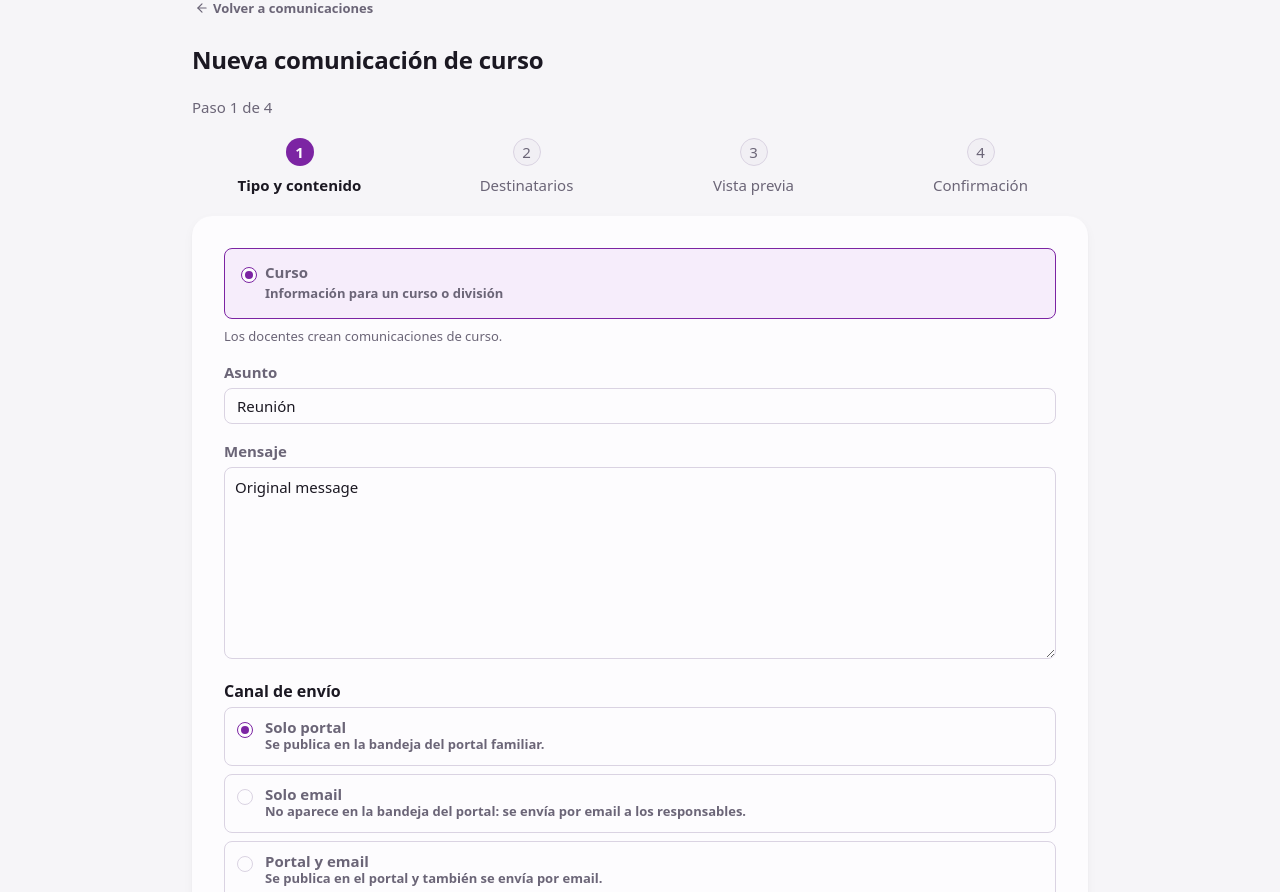
Test: changing an edited teacher draft cycle preserves unsaved content and reloads only options
Type " updated" into the field labelled "Asunto".
click(640, 406); type(" updated")  # box [224,388,1056,424]
Type " updated" into the text box labelled "Mensaje".
click(640, 563); type(" updated")  # box [224,467,1056,659]
(page scrolled)
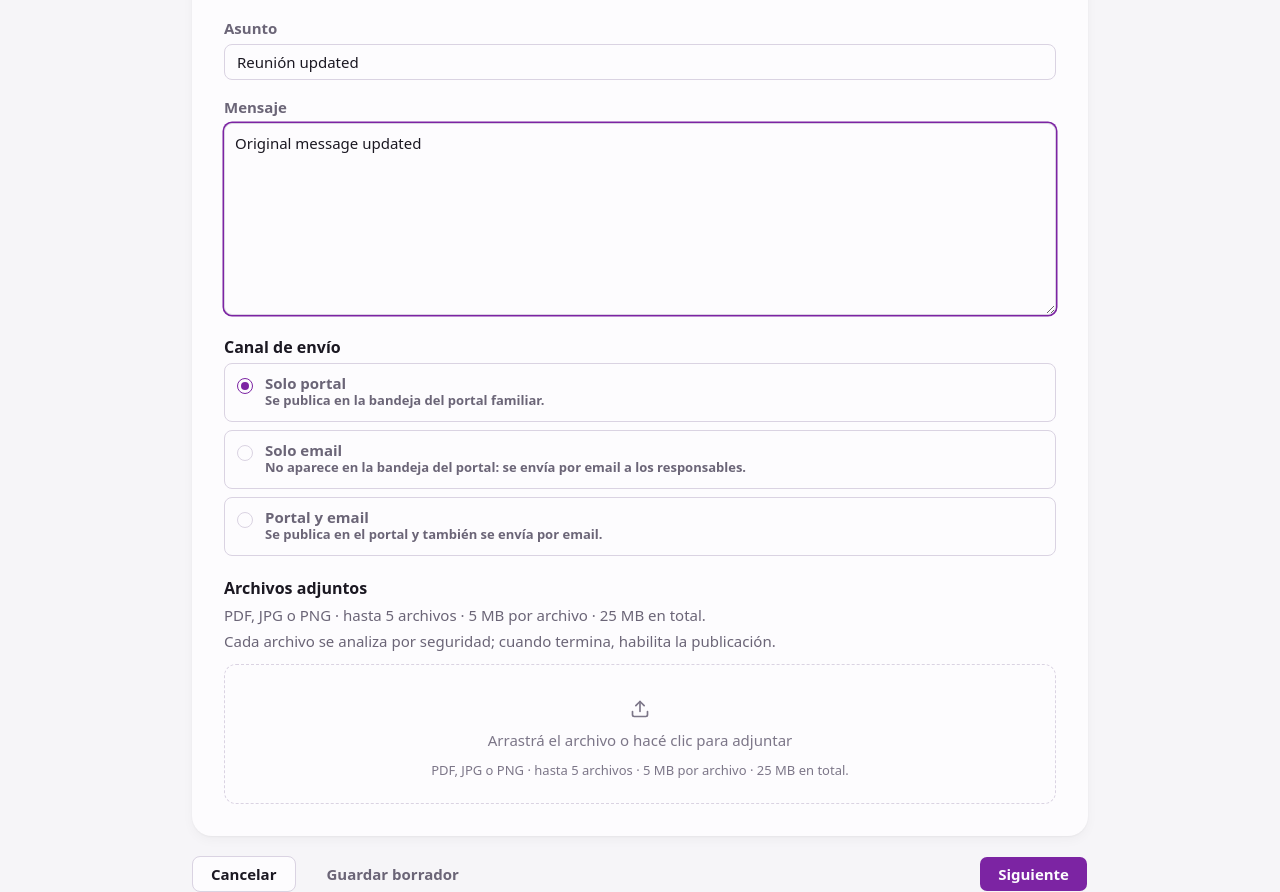
Click the button "Siguiente".
click(1034, 874)  # box [979,856,1088,891]
(page scrolled)
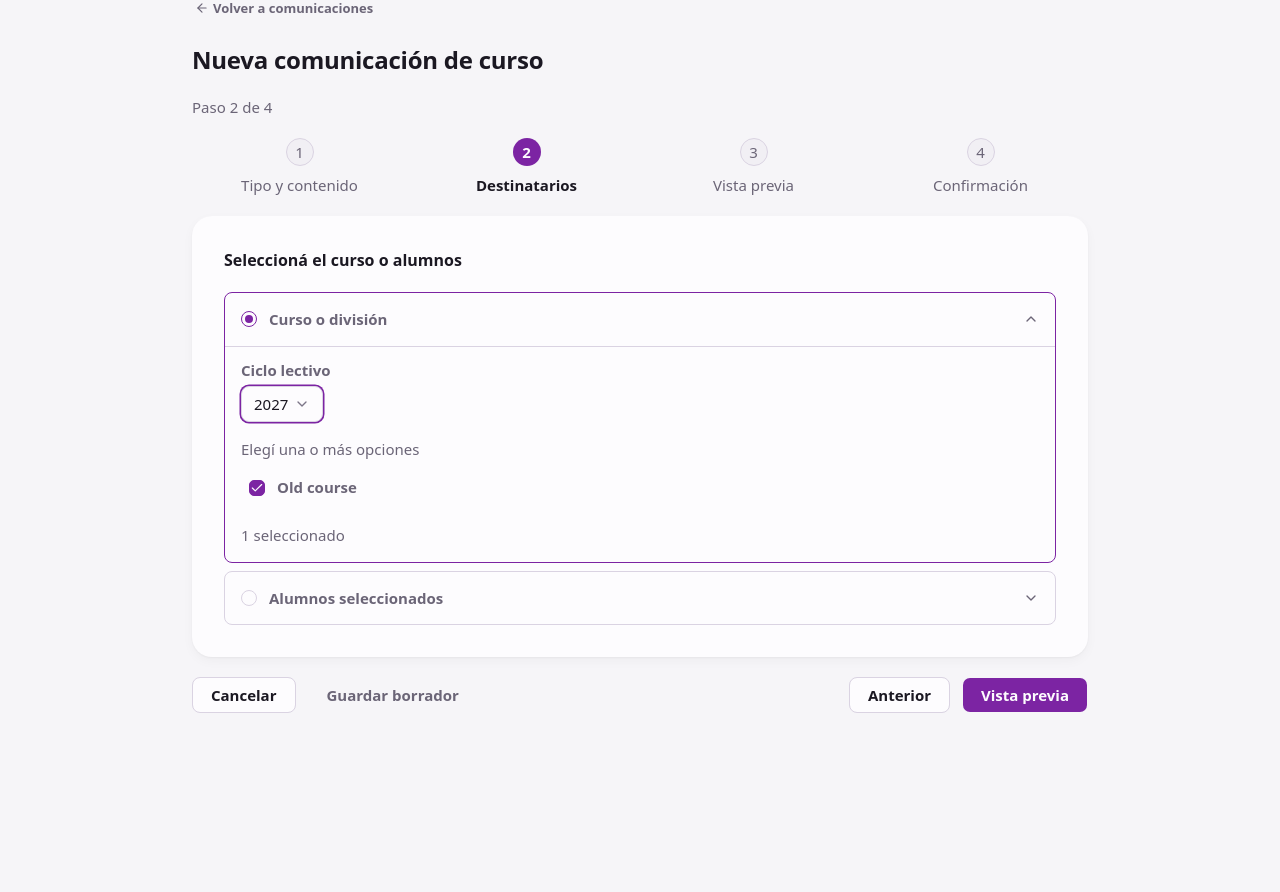
Type keys "[ArrowDown]"
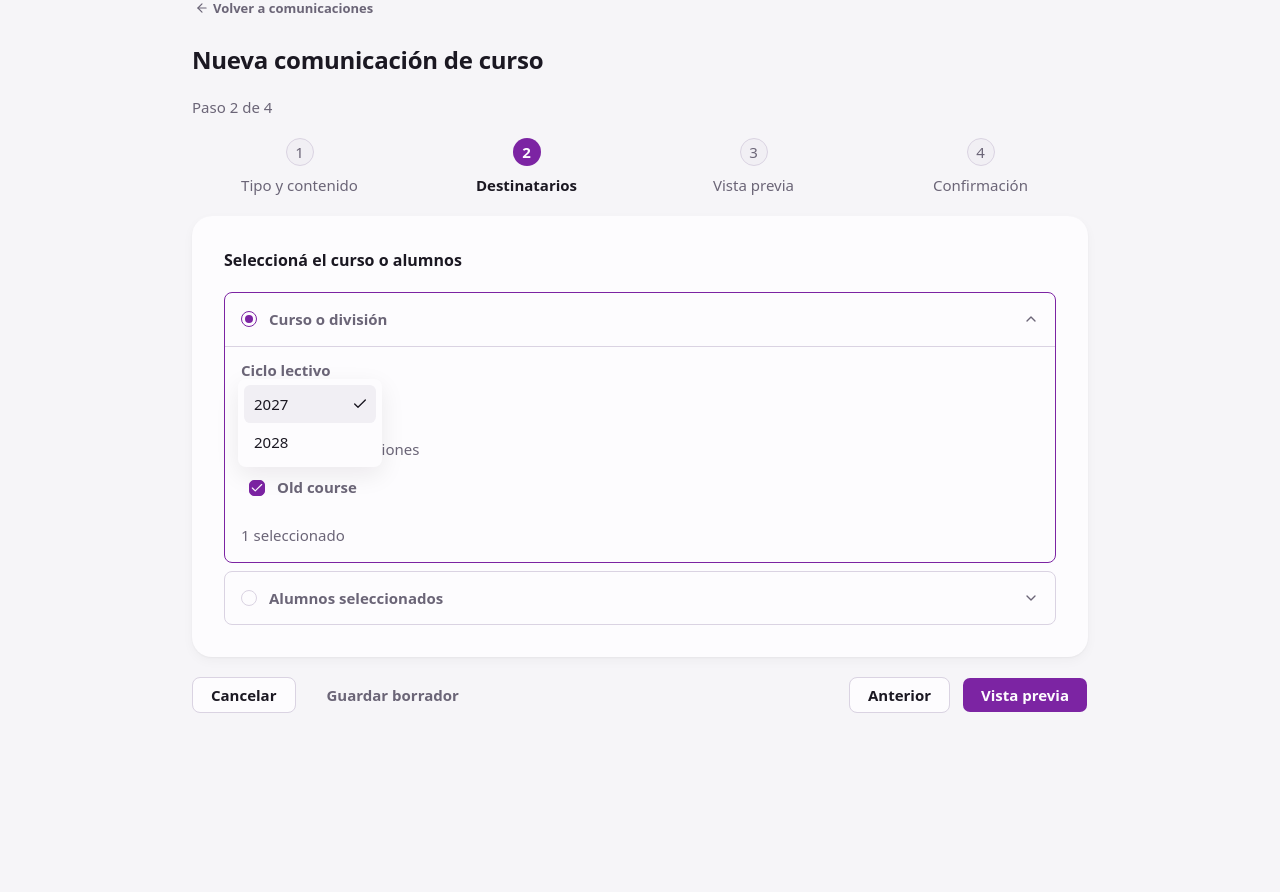
Type keys "[End][Enter]"
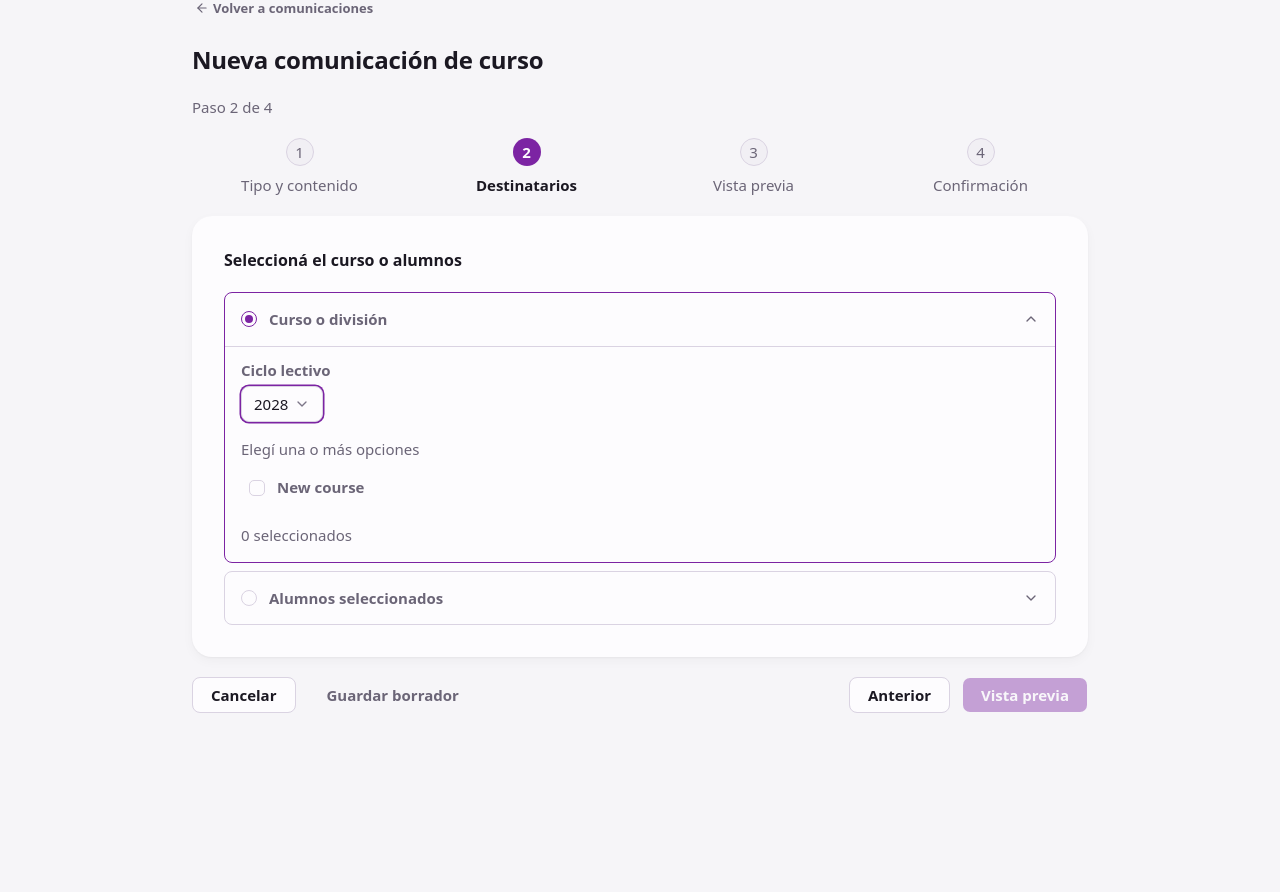
Click the checkbox named "New course".
click(257, 488)  # box [249,480,265,496]
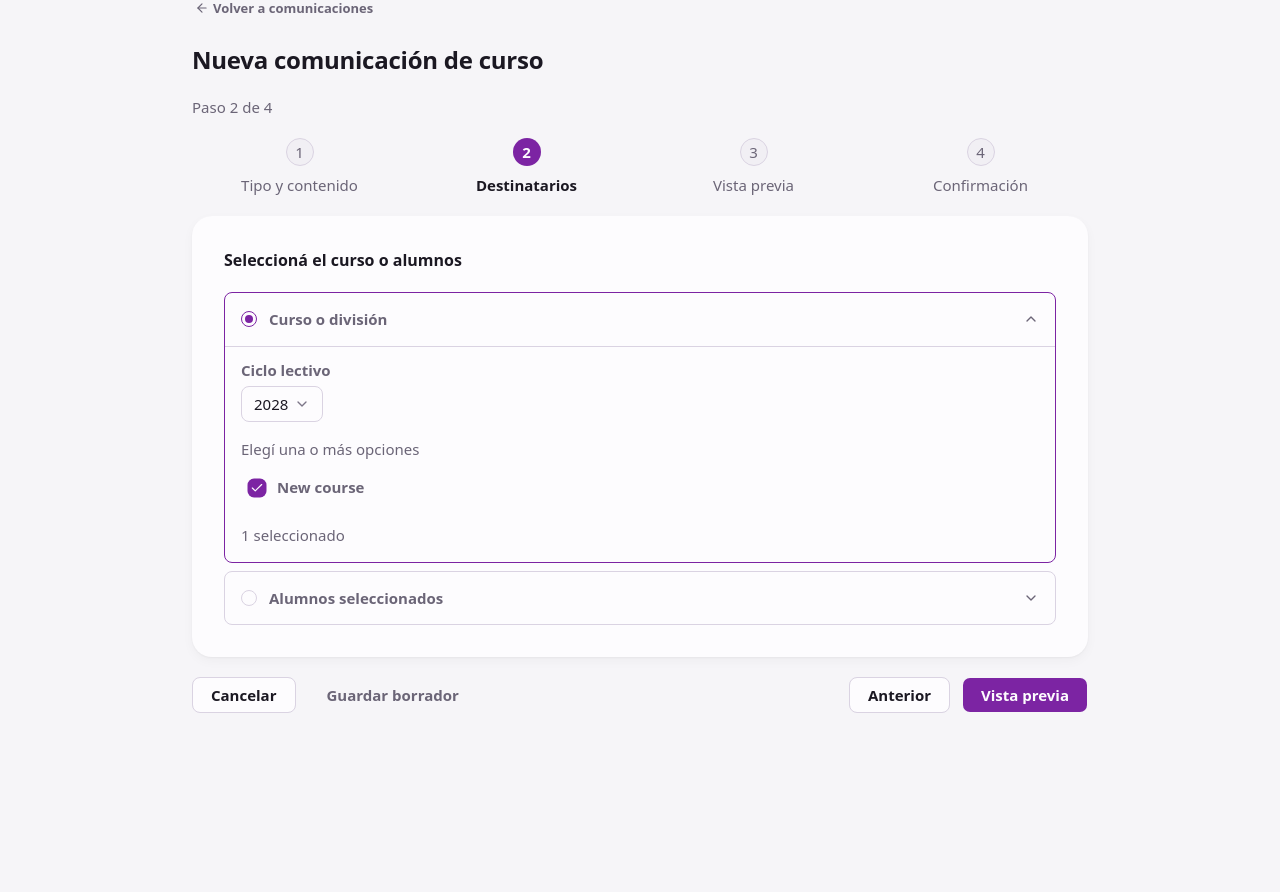
Result: the dropdown named "Ciclo lectivo" reads "2028" at [241,386,323,422]
Click the button "Guardar borrador".
click(393, 695)  # box [308,677,478,713]
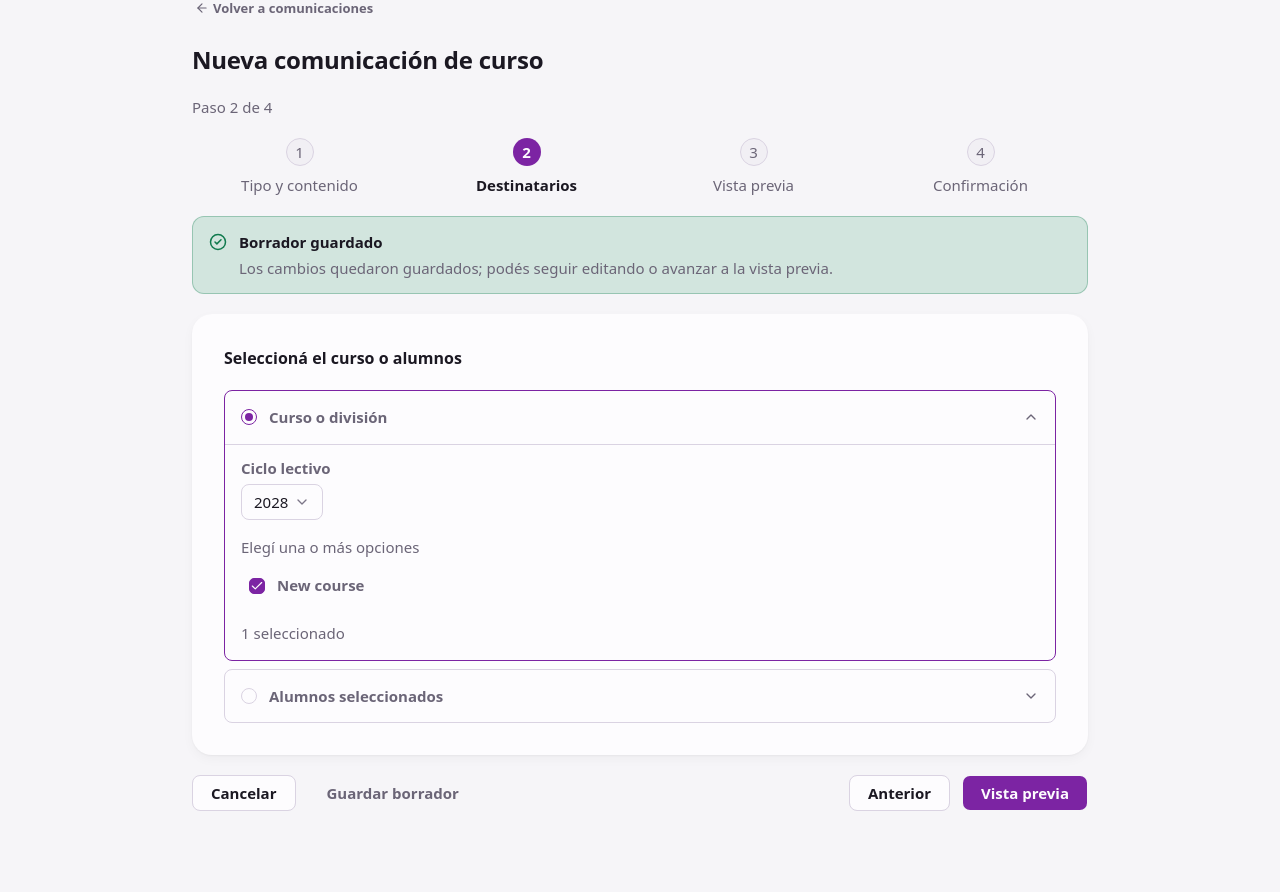
Result: the text "Borrador guardado" is shown at [239,232,382,252]
